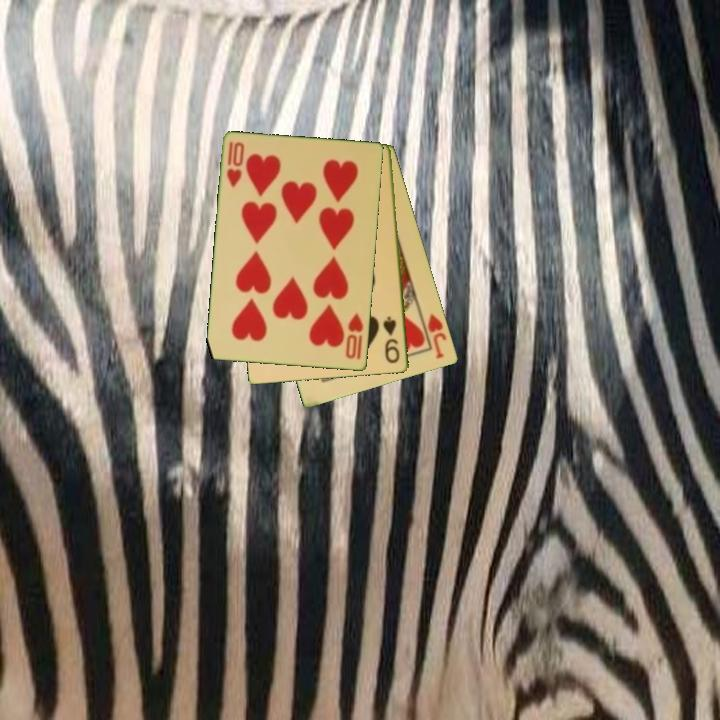10h: (342, 309, 366, 363), (223, 138, 247, 191)
9s: (380, 313, 403, 366)
Jh: (424, 310, 450, 362)
